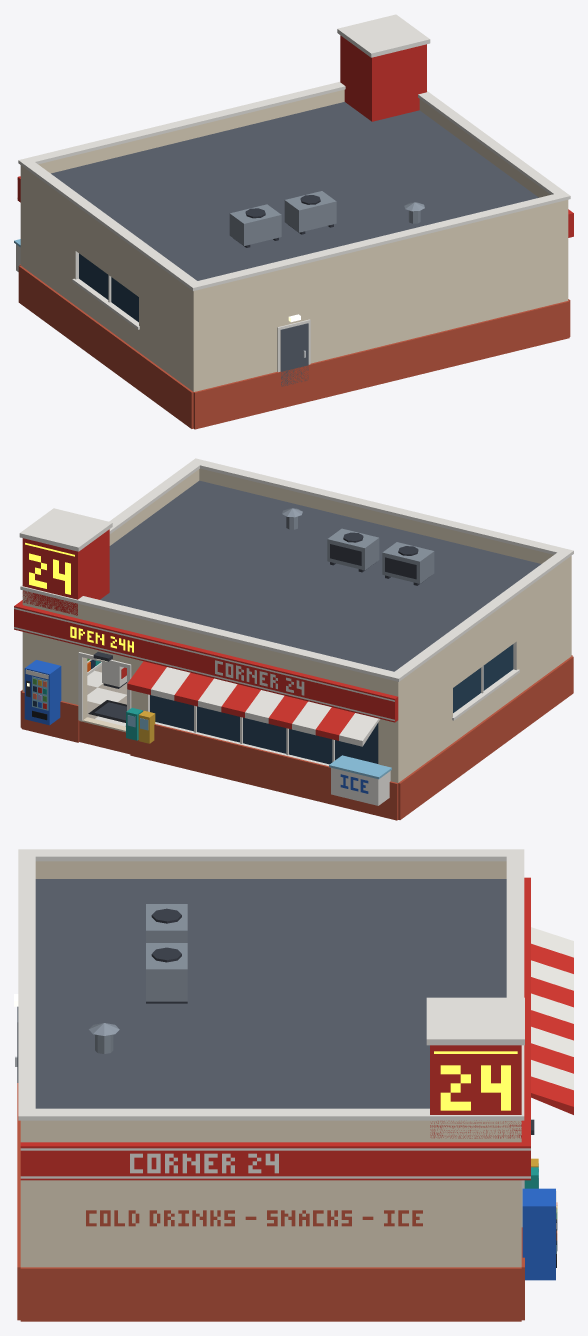
The model's file is general_store.glb.
The picture shows the model from 3 angles, top to bottom: view 1: azimuth 30°, elevation 25°; view 2: azimuth 150°, elevation 25°; view 3: azimuth 270°, elevation 25°; orthographic projection. The views are drawn at different scales.
Visible parts, largest first — view 1: Building, Building_Detail, Building_Glass; view 2: Building, Building_Detail, Building_Glass, Building_Neon, Building_Interior; view 3: Building, Building_Detail, Building_Neon.
Boxes of the visible parts, x1=… form: Building: x1=14, y1=14, x2=573, y2=429; Building_Detail: x1=17, y1=178, x2=424, y2=247; Building_Glass: x1=79, y1=253, x2=138, y2=322; Building: x1=14, y1=458, x2=573, y2=820; Building_Detail: x1=14, y1=508, x2=434, y2=793; Building_Glass: x1=150, y1=644, x2=513, y2=764; Building_Neon: x1=25, y1=542, x2=133, y2=652; Building_Interior: x1=87, y1=658, x2=126, y2=688; Building: x1=14, y1=849, x2=557, y2=1321; Building_Detail: x1=20, y1=904, x2=573, y2=1226; Building_Neon: x1=434, y1=1051, x2=517, y2=1110.
Bounding box in the file's own units: 15.31 × 7.46 × 13.41.
